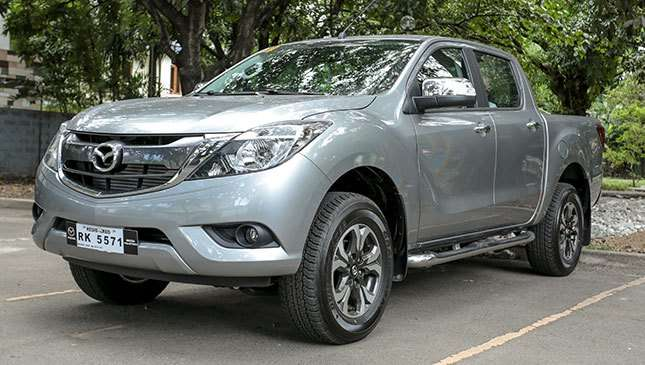pickup: (34, 33, 605, 348)
